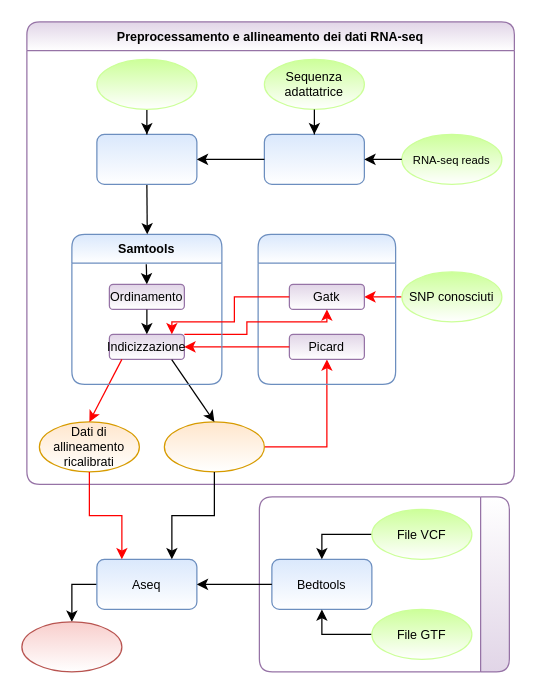
The diagram is 536 pixels wide and 694 high, and some of its shapes have lost their labels. Here are the shapes that lost their labels. From the top down, the box of each, then its label:
(96, 58, 197, 109): Genoma di riferimento
(96, 133, 197, 184): STAR
(263, 133, 364, 184): Trimmomatic
(257, 233, 396, 384): Deduplicazione e ricalibrazione
(163, 421, 264, 472): Dati di allineamento
(258, 496, 509, 672): Ottenimento degli SNP
(21, 621, 122, 672): Dati di pileup
